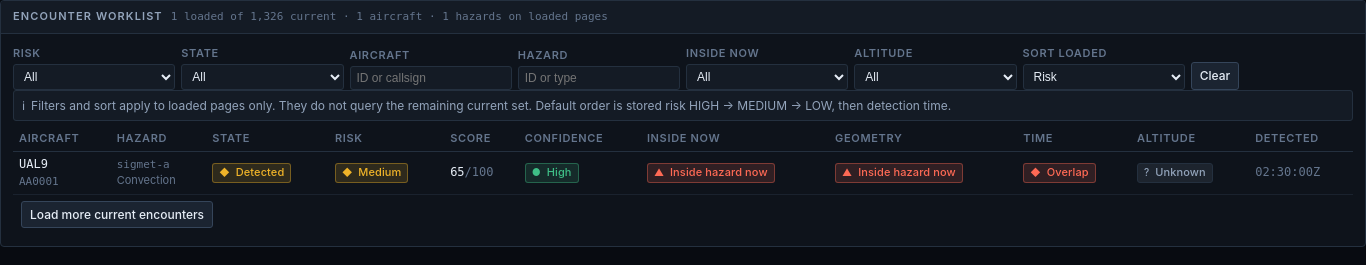
Test: EncounterWorklist › walks an opaque nextToken with Load more
What coordinates should you click on to do the following:
click the button "Load more current encounters"
I would click on:
 (117, 214)
Its box is [21,200,213,228].
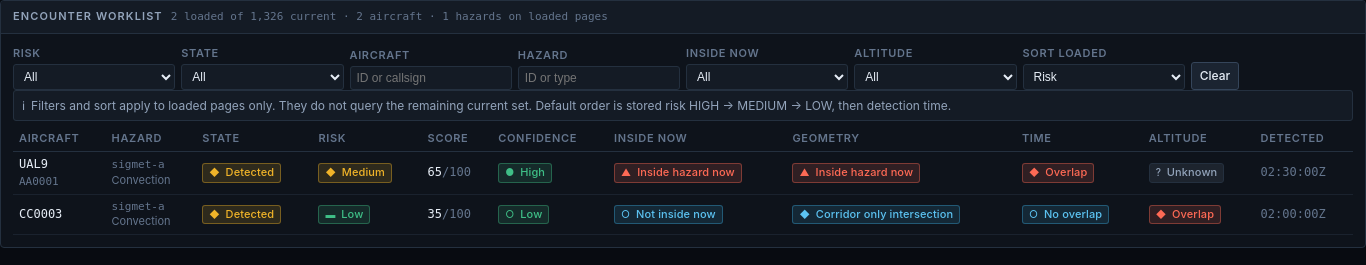
Check: the text "CC0003" is shown, box [19,207,62,221]
